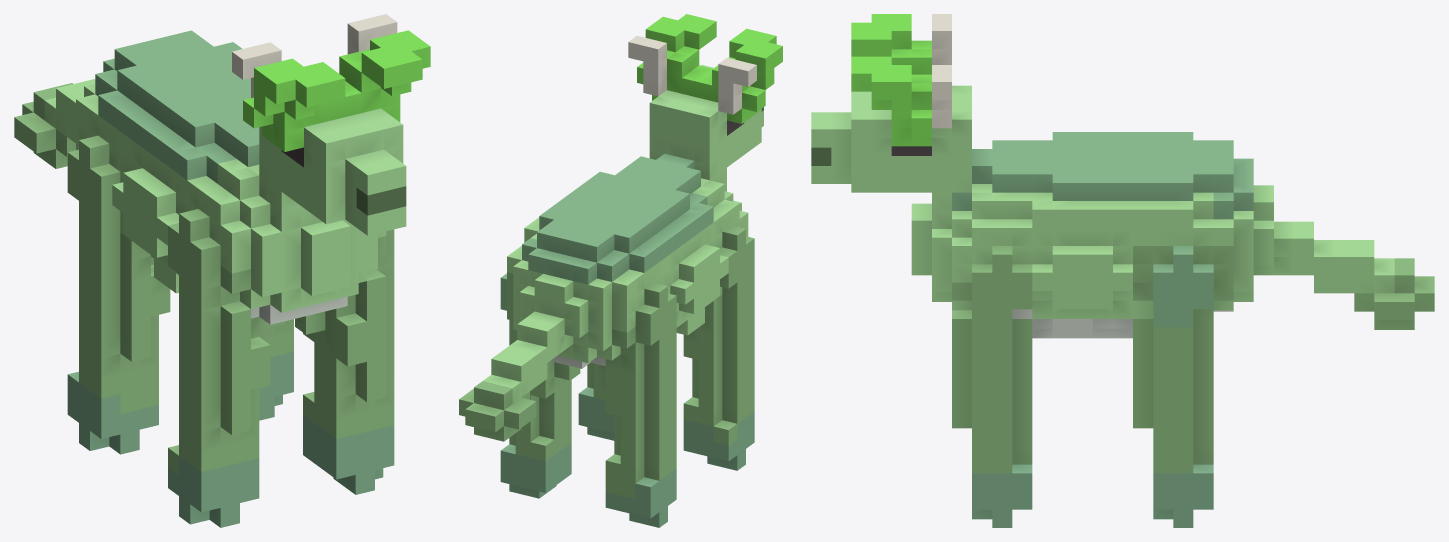
File: frond-42-champion.glb
The picture shows the model from 3 angles, left to right: view 1: azimuth 30°, elevation 25°; view 2: azimuth 150°, elevation 25°; view 3: azimuth 270°, elevation 25°; orthographic projection. The views are drawn at different scales.
Parts seen in each view (by area): view 1: body, legFL, legBL, legFR, head, antlerRight, antlerLeft, tailTip, legBR, tail, leafBudLeft, crownBloomRight (+2 smaller); view 2: body, legBL, legFL, legBR, head, tail, antlerRight, tailTip, antlerLeft, legFR, neck, crownBloomRight (+2 smaller); view 3: body, legBR, legFR, head, tail, antlerRight, tailTip, antlerLeft, crownBloomRight, leafBudRight, neck, crownBloomLeft.
Part boxes in pixels (x1,y1,x2,y2): body: (76, 30, 386, 324); legFL: (168, 209, 270, 527); legBL: (67, 135, 170, 454); legFR: (295, 229, 394, 494); head: (259, 108, 406, 235); antlerRight: (339, 30, 430, 117); antlerLeft: (254, 58, 345, 131); tailTip: (14, 83, 75, 168); legBR: (259, 319, 293, 420); tail: (44, 79, 95, 142); leafBudLeft: (243, 97, 303, 151); crownBloomRight: (347, 14, 397, 54); body: (507, 153, 748, 368); legBL: (599, 282, 676, 527); legFL: (683, 225, 754, 470); legBR: (500, 273, 580, 498); head: (649, 65, 763, 167); tail: (483, 311, 564, 403); antlerRight: (645, 14, 716, 97); tailTip: (459, 381, 536, 441); antlerLeft: (697, 28, 782, 102); legFR: (578, 362, 614, 440); neck: (649, 122, 726, 184); crownBloomRight: (628, 36, 666, 96); body: (911, 132, 1273, 338); legBR: (1133, 246, 1233, 527); legFR: (952, 246, 1032, 527); head: (811, 85, 971, 192); tail: (1274, 221, 1394, 293); antlerRight: (851, 56, 931, 128); tailTip: (1354, 258, 1434, 329); antlerLeft: (851, 14, 931, 74); crownBloomRight: (932, 65, 951, 128); leafBudRight: (891, 110, 931, 146); neck: (932, 174, 971, 210); crownBloomLeft: (932, 14, 951, 64).
Bounding box in the file's own units: 0.45 × 1.08 × 1.4.
